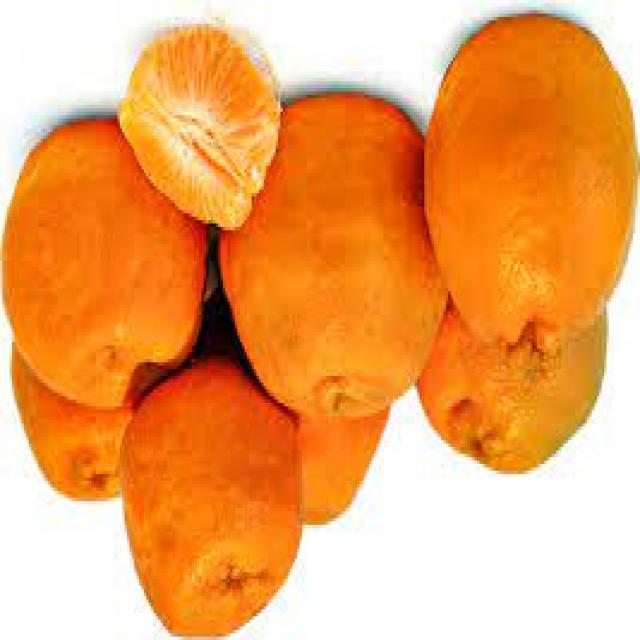orange: (426, 2, 638, 358)
